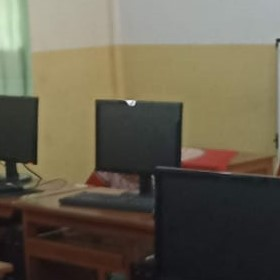monitor: (58, 99, 183, 213), (152, 166, 280, 276), (0, 95, 39, 165)
